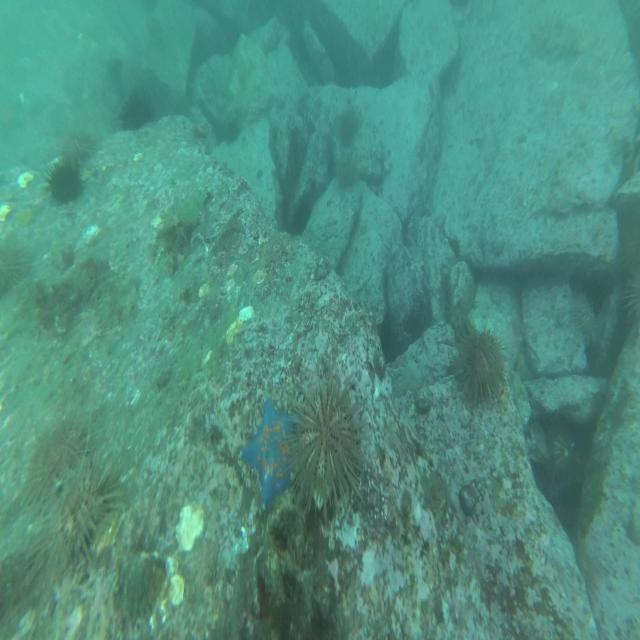echinus: (288, 385, 360, 514), (44, 459, 119, 567), (18, 418, 79, 511), (458, 318, 507, 409), (43, 161, 83, 205), (570, 287, 599, 344), (116, 90, 152, 130), (622, 264, 640, 334), (337, 110, 365, 144), (336, 160, 360, 191)
scallop: (175, 502, 207, 552), (224, 318, 244, 350), (17, 166, 33, 186), (252, 268, 268, 285), (197, 280, 211, 298), (0, 199, 6, 224)
starfish: (238, 398, 302, 506)
